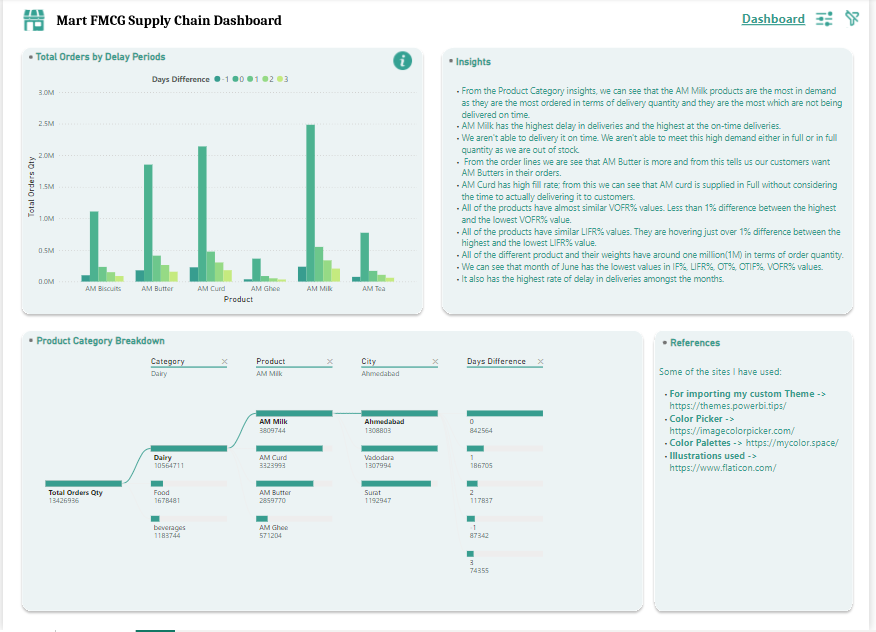

Layout of this report page (visuals, bound fields, positions):
{"tool":"powerbi","page":{"name":"Category Wise","canvas":[1480,1080],"ordinal":1},"visuals":[{"type":"clusteredColumnChart","fields":{"Category":["dim_products.Product"],"Y":["fact_order_lines.Total Orders Qty"],"Series":["fact_order_lines.Days Difference"]},"box":[35,118.3,678.3,410],"z":0},{"type":"decompositionTreeVisual","fields":{"ExplainBy":["dim_products.category","dim_products.Product","dim_customers.city","fact_order_lines.Days Difference"],"Analyze":["fact_order_lines.Total Orders Qty"]},"box":[43.3,595,1043.3,448.3],"z":1000},{"type":"actionButton","box":[663.8,87.7,43.1,40],"z":2000},{"type":"textbox","box":[760,143,681,373],"z":4000},{"type":"textbox","box":[1116.2,621.5,324.6,308.5],"z":5000},{"type":"actionButton","box":[1384.7,14.7,38.4,40],"z":7000},{"type":"actionButton","box":[1432.1,14.7,38.4,40],"z":8000},{"type":"pageNavigator","box":[1248.6,8.6,135.7,50],"z":9000},{"type":"card","fields":{"Values":["Titles.Product Category Breakdown"]},"box":[54.6,569.2,229.2,34.6],"z":10000},{"type":"card","fields":{"Values":["Titles.Total Orders by Delay Periods"]},"box":[51.5,83.1,236.2,35.4],"z":11000},{"type":"card","fields":{"Values":["Titles.Insights"]},"box":[771.4,90,71.4,35.7],"z":12000},{"type":"card","fields":{"Values":["Titles.References"]},"box":[1138.6,570,94.3,35.7],"z":13000}]}

Visuals, with their boxes in screenshot pixels (x1, y1, x2, y2), scaled from the page's 1480x1080 canvas onto the 876x632 screenshot:
clusteredColumnChart - dim_products.Product x fact_order_lines.Total Orders Qty: left=21, top=69, right=422, bottom=309
decompositionTreeVisual - dim_products.category x dim_products.Product: left=26, top=348, right=643, bottom=611
actionButton: left=393, top=51, right=418, bottom=75
textbox: left=450, top=84, right=853, bottom=302
textbox: left=661, top=364, right=853, bottom=544
actionButton: left=820, top=9, right=842, bottom=32
actionButton: left=848, top=9, right=870, bottom=32
pageNavigator: left=739, top=5, right=819, bottom=34
card - Titles.Product Category Breakdown: left=32, top=333, right=168, bottom=353
card - Titles.Total Orders by Delay Periods: left=30, top=49, right=170, bottom=69
card - Titles.Insights: left=457, top=53, right=499, bottom=74
card - Titles.References: left=674, top=334, right=730, bottom=354
